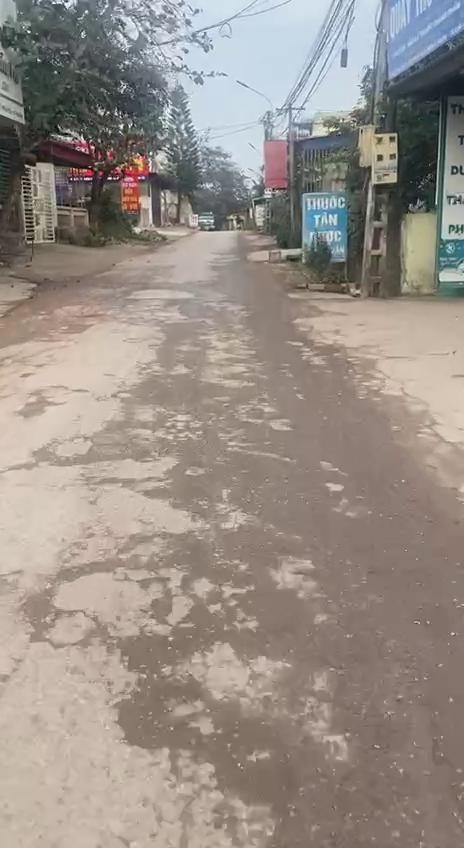pothole: (102, 610, 214, 762), (0, 556, 123, 652), (202, 715, 304, 813)
